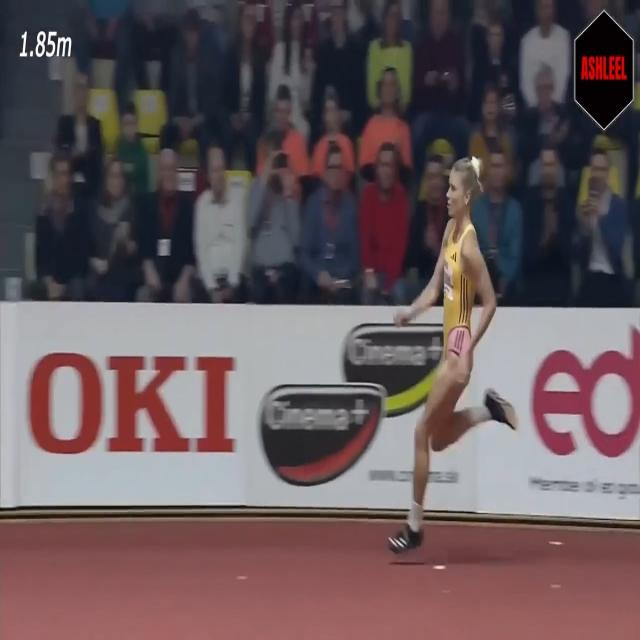run: (390, 154, 518, 551)
